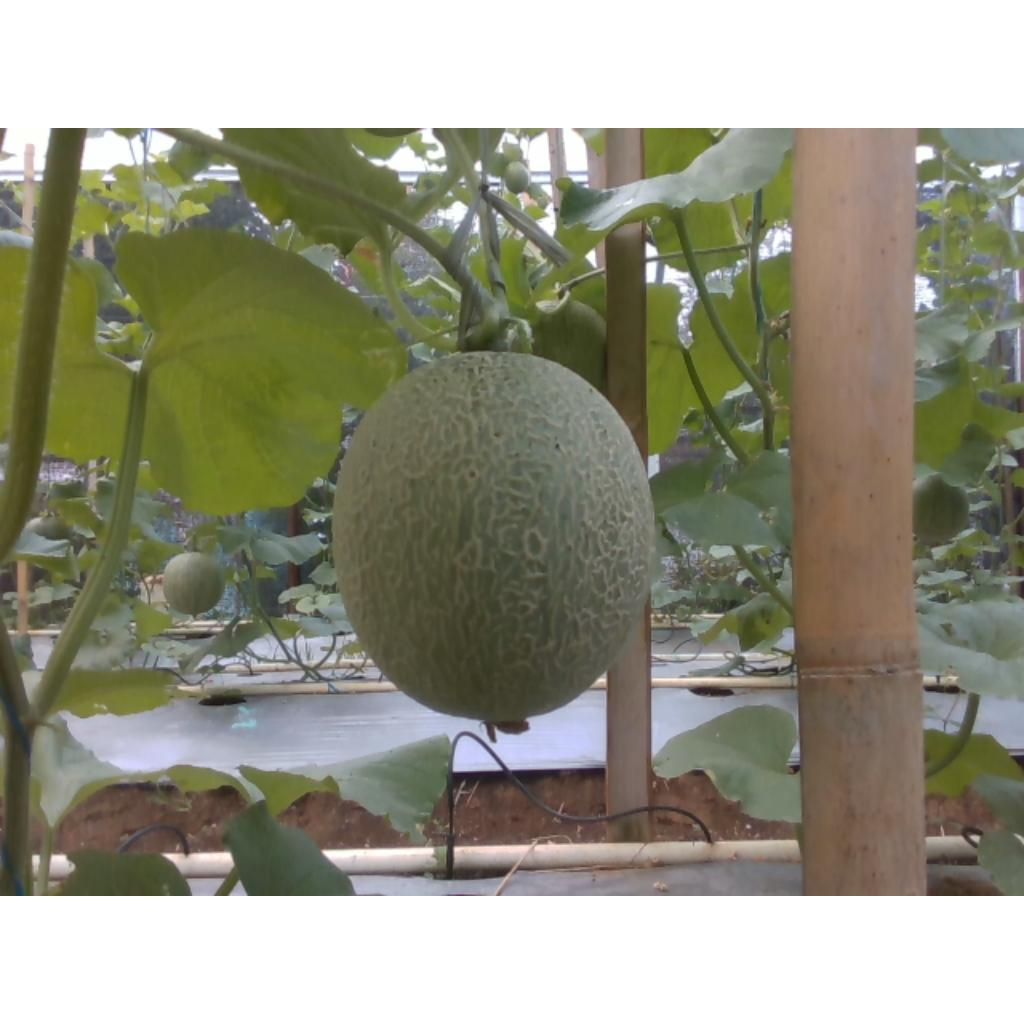melon: (333, 350, 654, 724)
